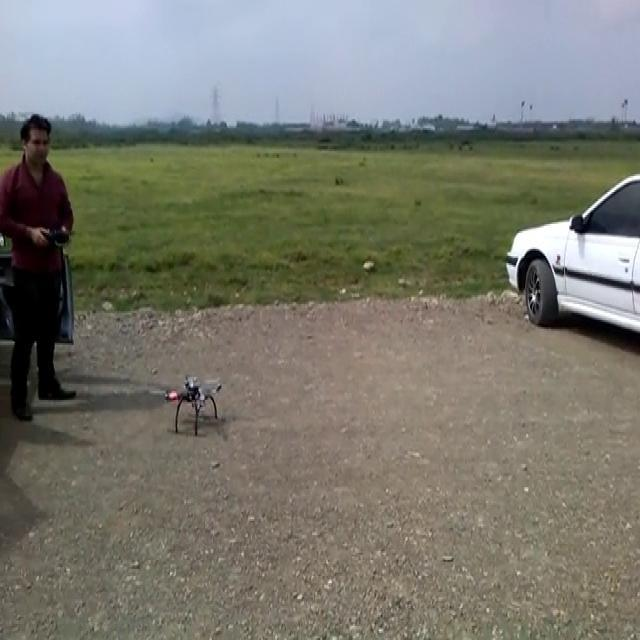drone: (151, 370, 223, 436)
